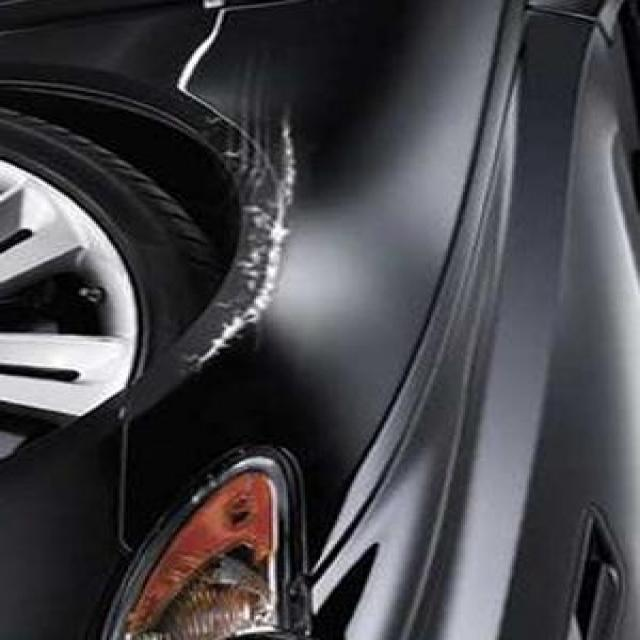scratch: (163, 92, 347, 388)
